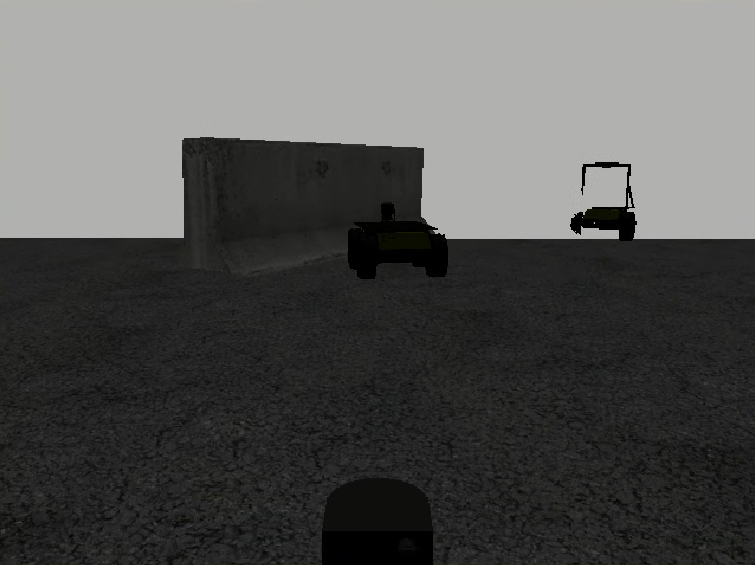husky: (347, 221, 449, 280)
